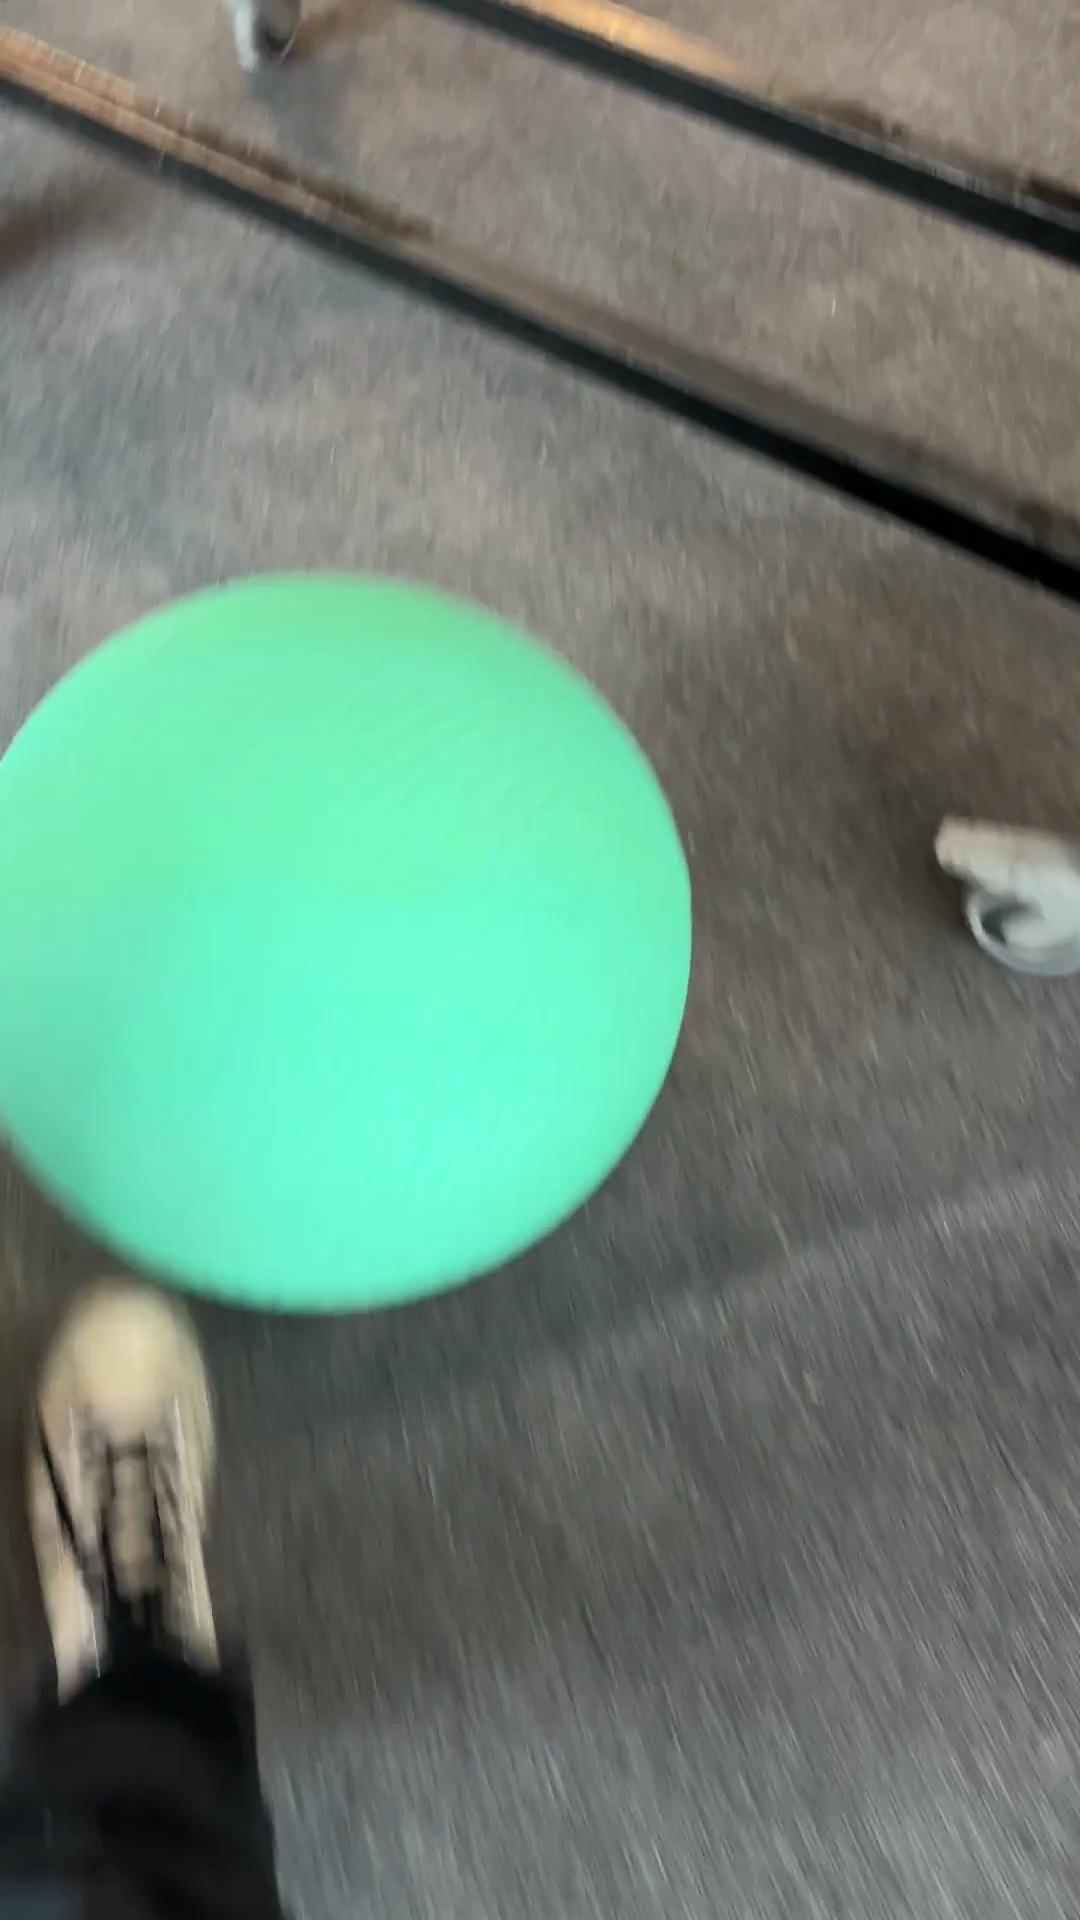ALGAE: (1, 566, 695, 1317)
